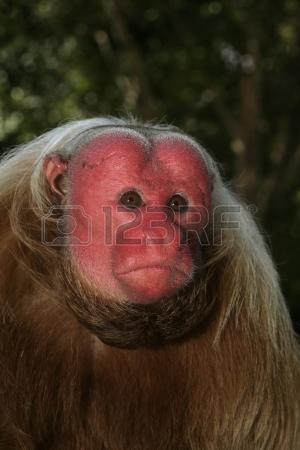monkey: (53, 125, 212, 328)
